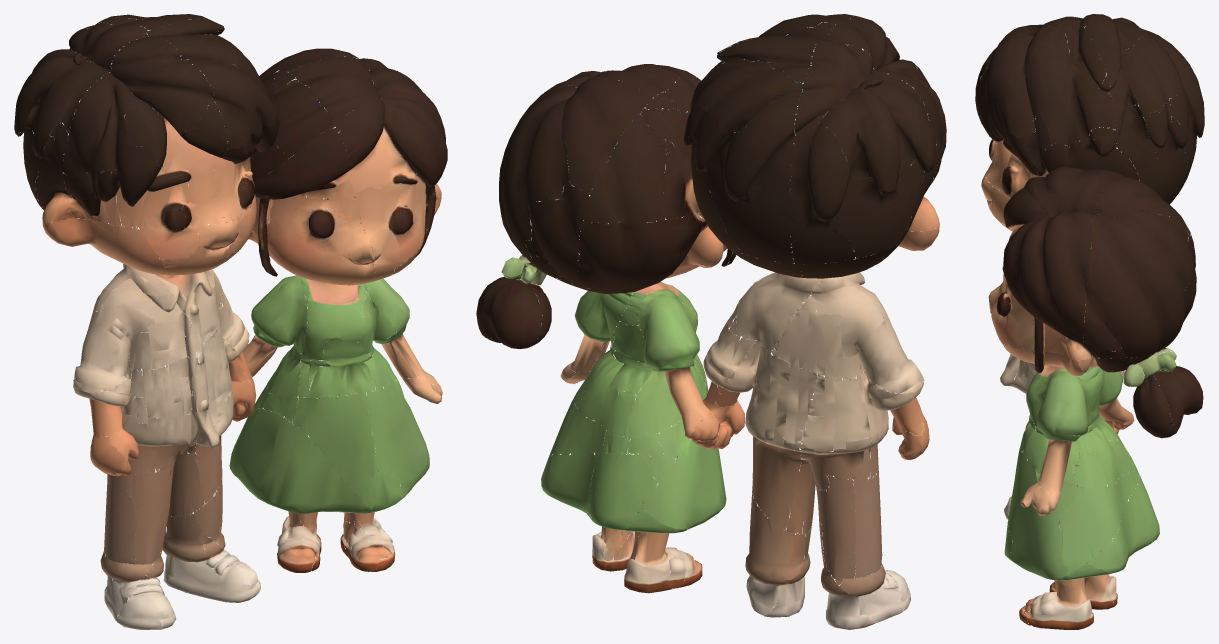
File: scene-couple.glb
3 views of the same model, side by side, from view 1: azimuth 30°, elevation 25°; view 2: azimuth 150°, elevation 25°; view 3: azimuth 270°, elevation 25° (orthographic). The views are drawn at different scales.
Visible parts, largest first — view 1: tripo_node_c6a1154b-31f6-438c-8a60-fa858e333a88; view 2: tripo_node_c6a1154b-31f6-438c-8a60-fa858e333a88; view 3: tripo_node_c6a1154b-31f6-438c-8a60-fa858e333a88.
Boxes of the visible parts, box(x1,y1,x2,y2) form: tripo_node_c6a1154b-31f6-438c-8a60-fa858e333a88: box(14, 14, 447, 629); tripo_node_c6a1154b-31f6-438c-8a60-fa858e333a88: box(476, 14, 946, 629); tripo_node_c6a1154b-31f6-438c-8a60-fa858e333a88: box(975, 14, 1204, 629).
Bounding box in the file's own units: 0.7278 × 0.9807 × 0.4015.
1 material, 1 textured.
